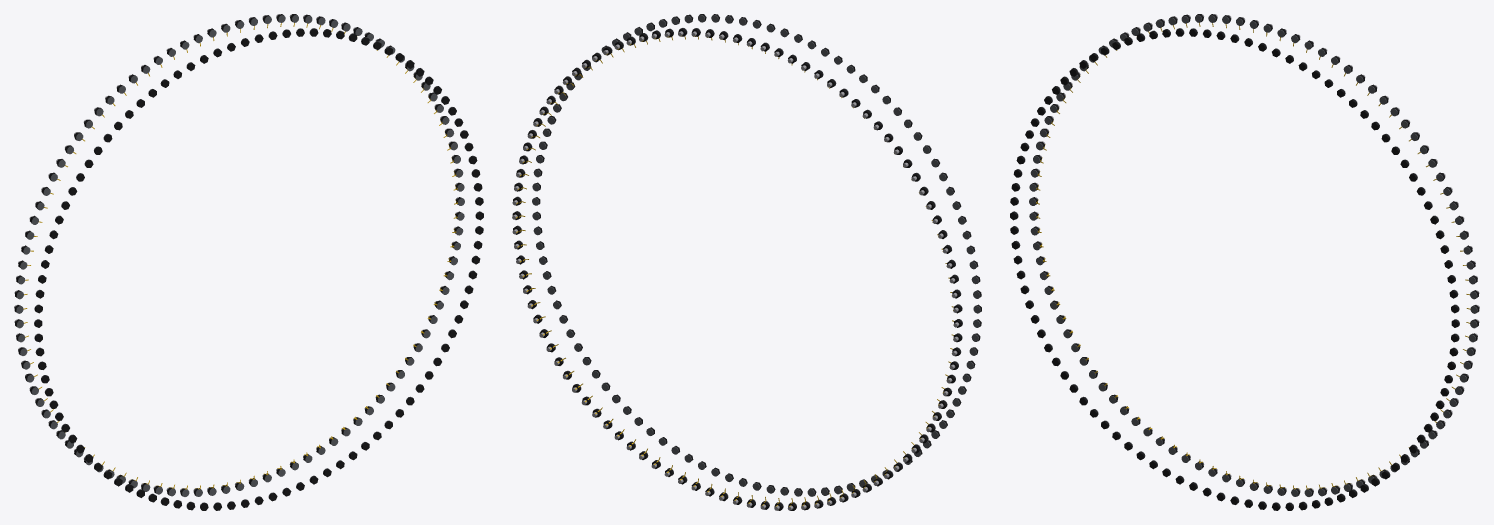
Rendered from flange_3_bolts_ok.glb.
3 views of the same model, side by side, from view 1: azimuth 30°, elevation 25°; view 2: azimuth 150°, elevation 25°; view 3: azimuth 330°, elevation 25° (orthographic).
Visible parts, largest first — view 1: flange_3_bolts_ok; view 2: flange_3_bolts_ok; view 3: flange_3_bolts_ok.
Boxes of the visible parts, x1,y1,x2,y2 form: flange_3_bolts_ok: (14, 14, 483, 510); flange_3_bolts_ok: (512, 14, 981, 510); flange_3_bolts_ok: (1010, 14, 1479, 510).
Bounding box in the file's own units: 4.16 × 4.16 × 0.3733.
4 materials, 3 textured.
